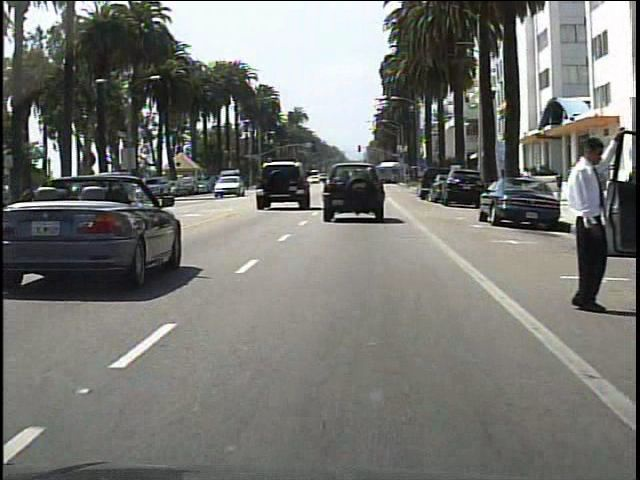person: (553, 127, 610, 325)
